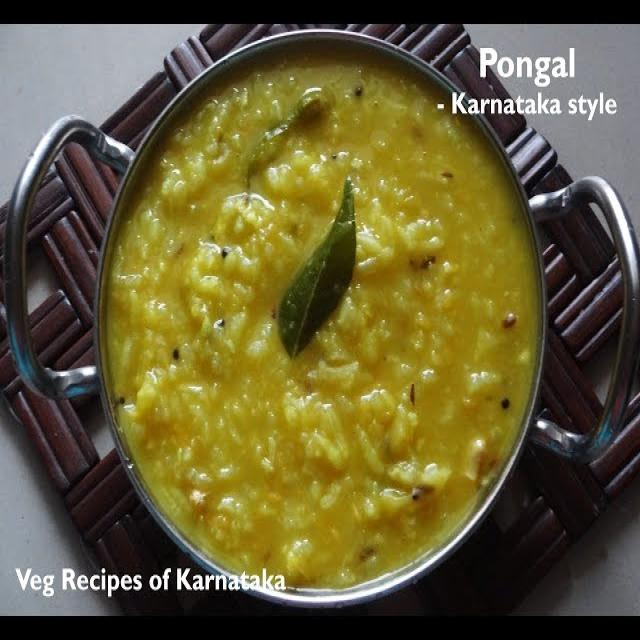khara pongal: (81, 36, 552, 603)
